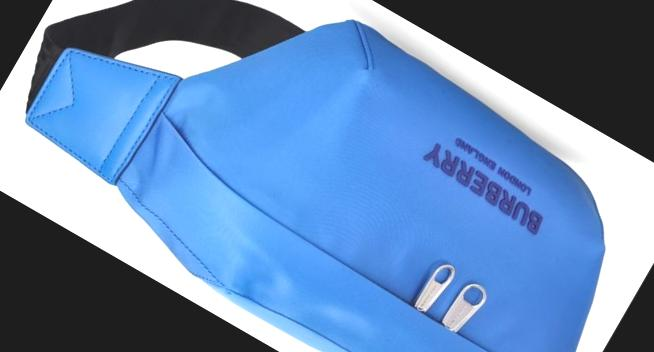BURBERRY: (416, 139, 550, 234)
